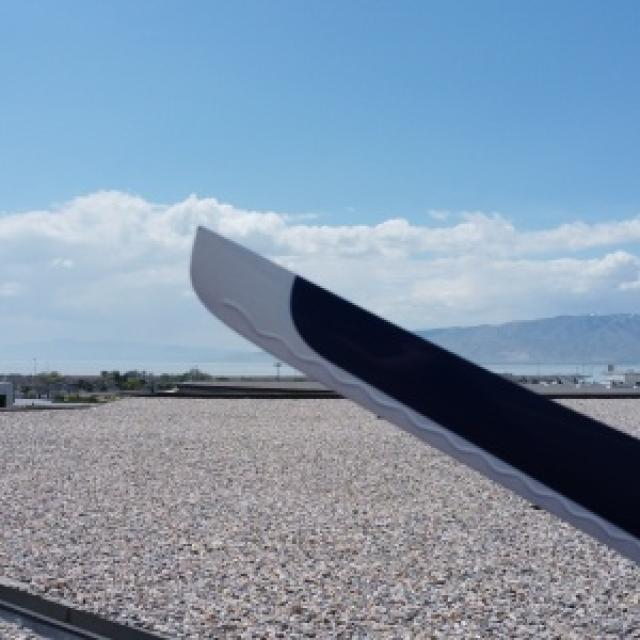healthy: (192, 224, 638, 561)
